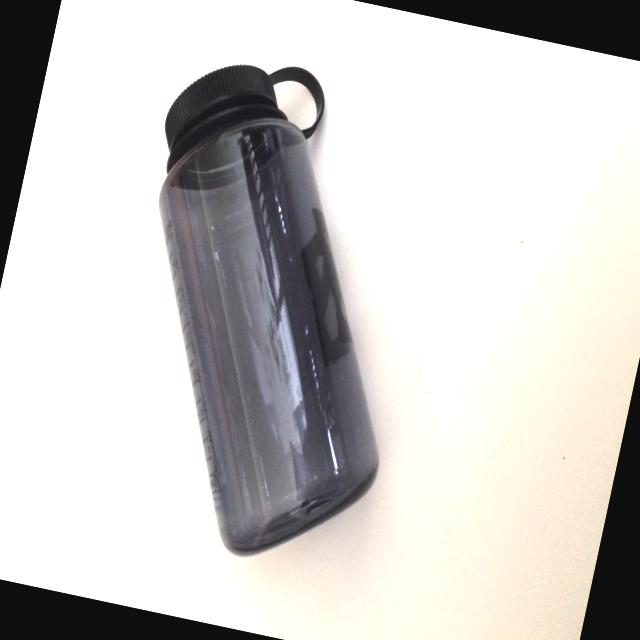Plastic: (52, 21, 489, 592)
